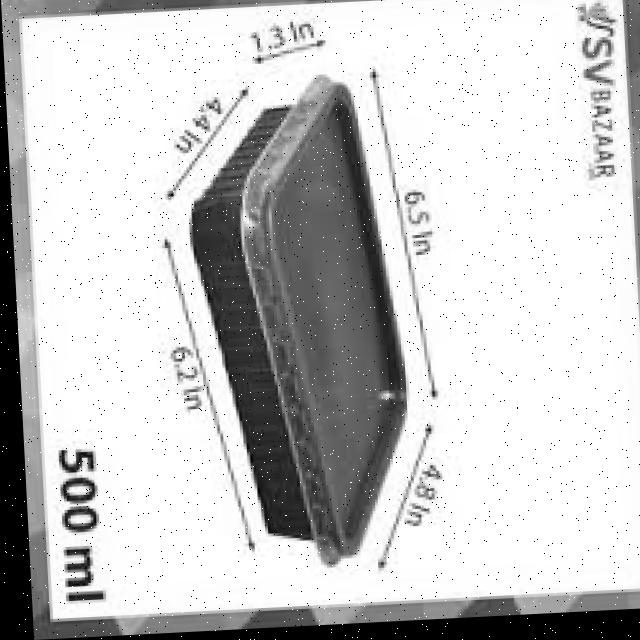disposable: (165, 97, 431, 567)
